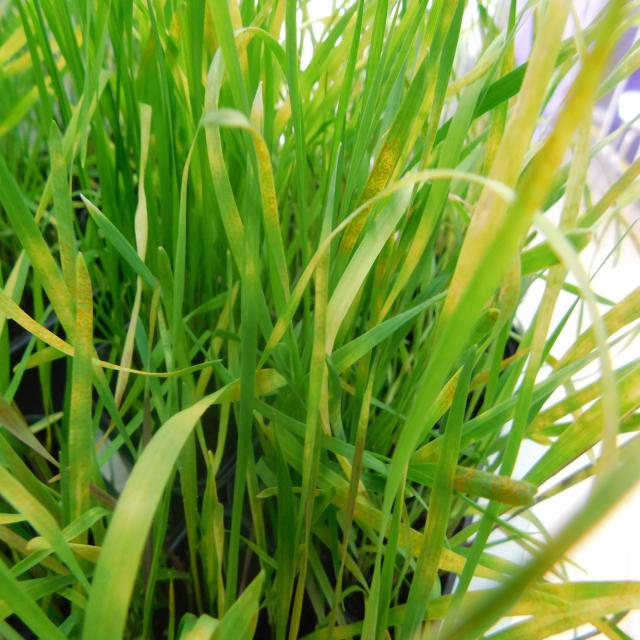wheat-yellowrust: (489, 0, 574, 190), (413, 432, 461, 607), (444, 187, 510, 313), (68, 250, 93, 527), (0, 290, 73, 357), (355, 122, 408, 212), (453, 464, 538, 506), (250, 130, 281, 236), (310, 245, 331, 387), (259, 316, 292, 370), (338, 208, 373, 256), (433, 365, 463, 417), (356, 503, 382, 528)
